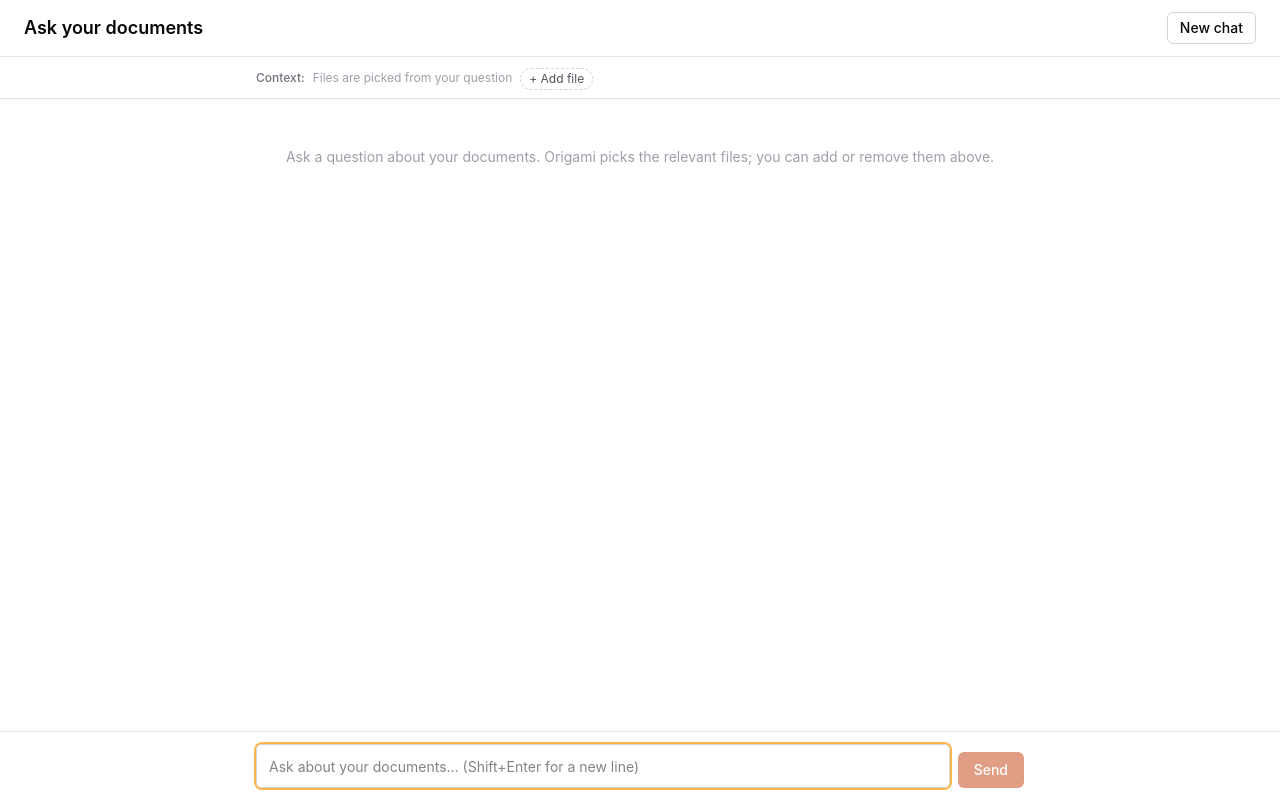
Test: New chat asks for confirmation before clearing the conversation
Type "Domanda?" into the text box named "Message" at (603, 766), box [256,744,950,788]
Then press Enter
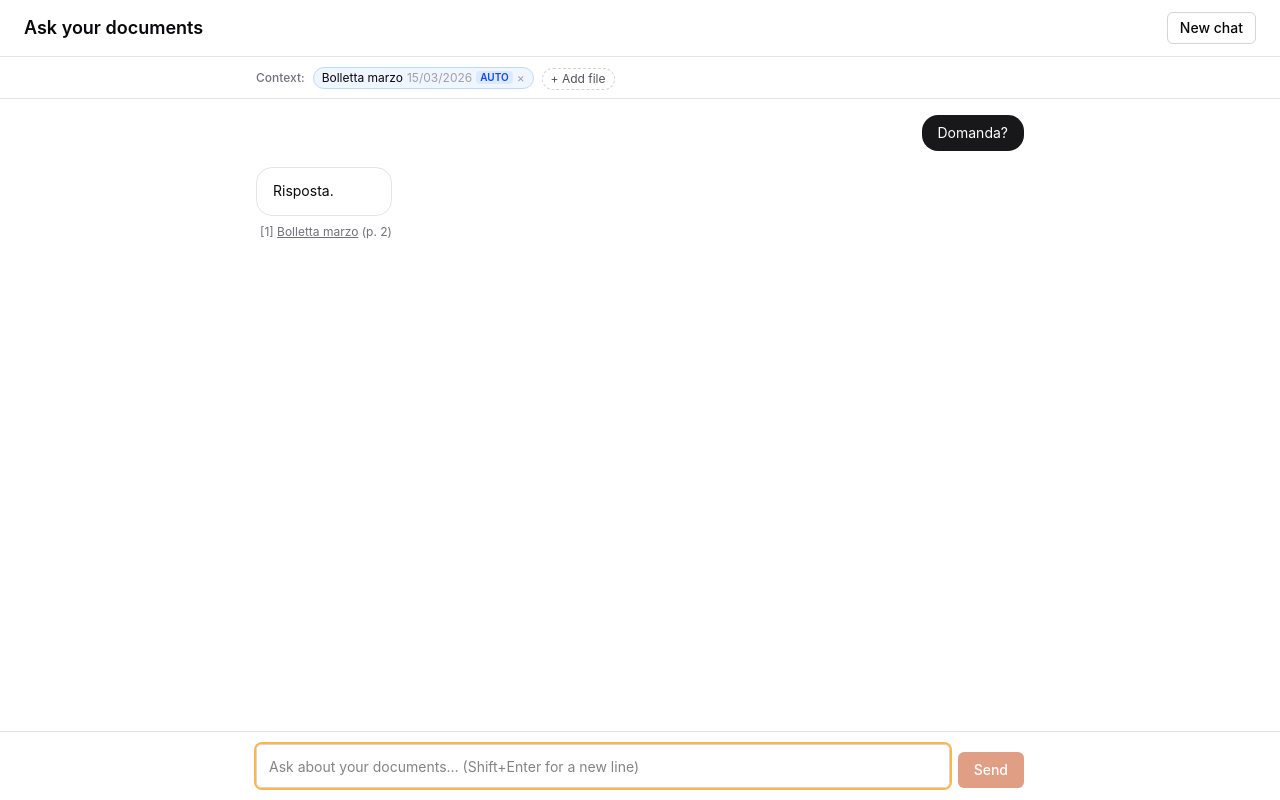
Expected: the text "Risposta." is shown, [273,182,334,199]
Click the button "New chat" at (1211, 28), box [1167,12,1256,44]
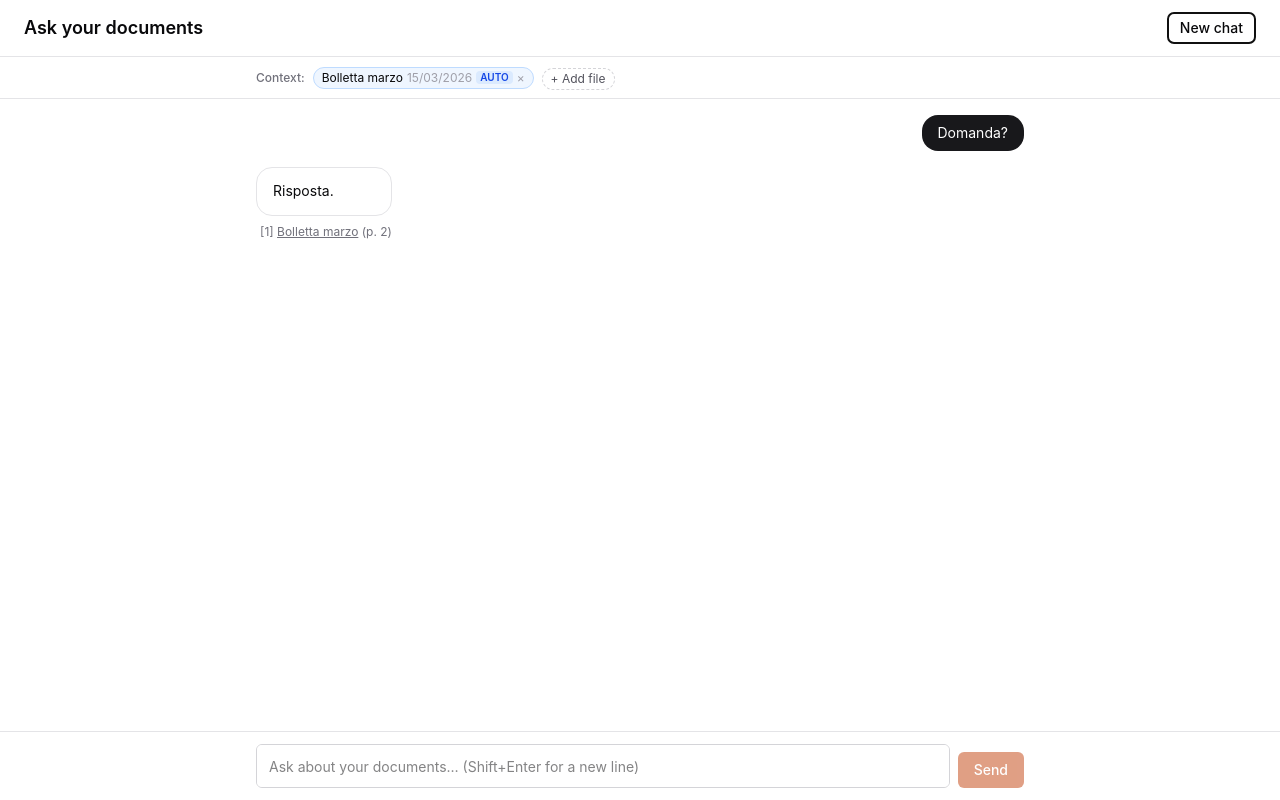
Expected: the text "Risposta." is shown, [273,182,334,199]
Click the button "New chat" at (1211, 28), box [1167,12,1256,44]
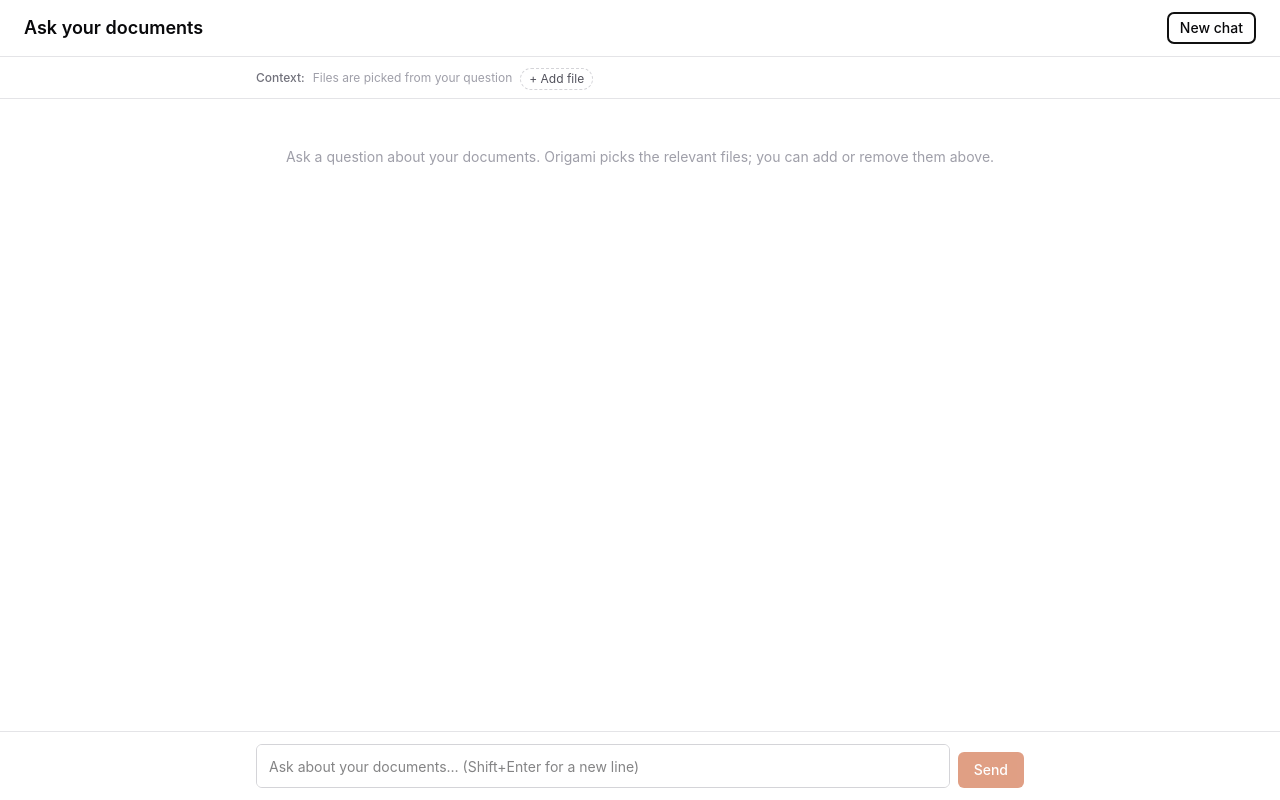
Expected: the text "Risposta." is gone
